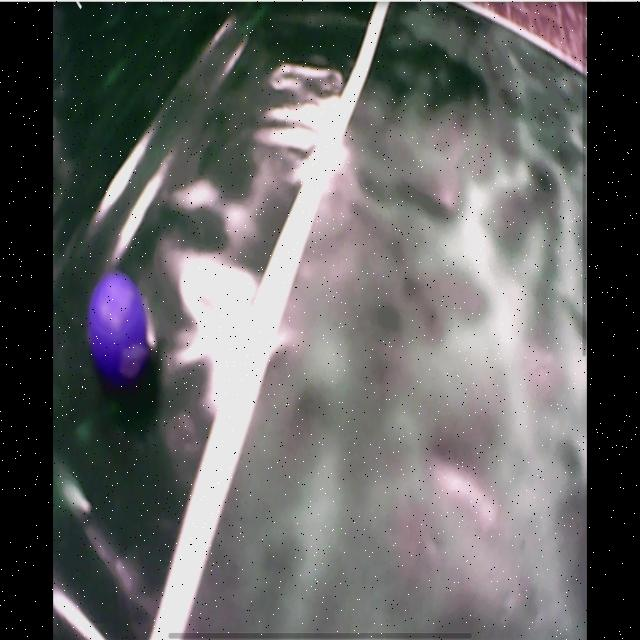ball: (82, 270, 147, 369)
